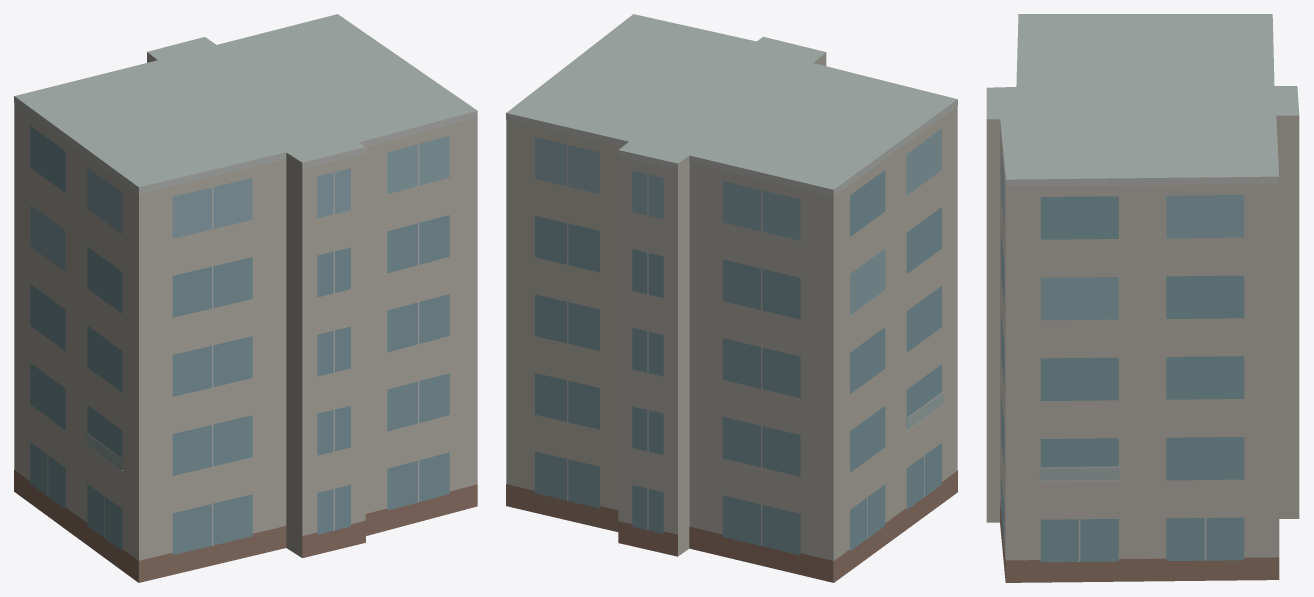
Rendered from survey-upis-32550524.glb.
3 renders of one model, left to right at view 1: azimuth 30°, elevation 25°; view 2: azimuth 150°, elevation 25°; view 3: azimuth 270°, elevation 25°, orthographic. The views are drawn at different scales.
Visible parts, largest first — view 1: survey-upis-32550524.tmp; view 2: survey-upis-32550524.tmp; view 3: survey-upis-32550524.tmp.
Part boxes in pixels (x1,y1,x2,y2): survey-upis-32550524.tmp: [14, 14, 477, 582]; survey-upis-32550524.tmp: [506, 14, 957, 582]; survey-upis-32550524.tmp: [986, 14, 1299, 582].
Size of the model in its own units: 12.64 by 14.3 by 10.06.
